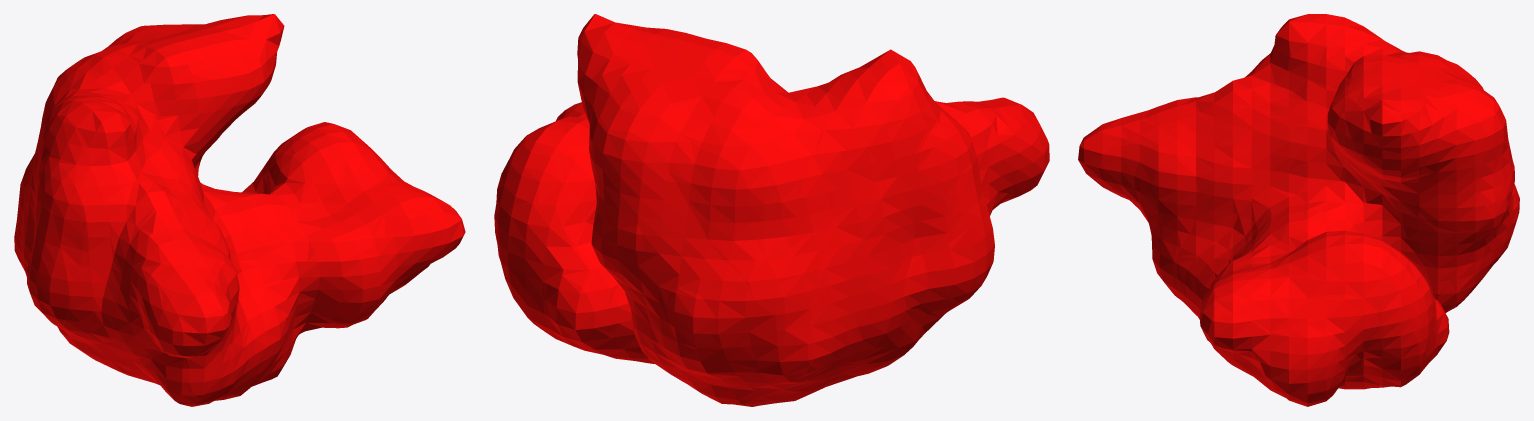
The model's file is udk_coarse.dae.
3 views of the same model, side by side, from view 1: azimuth 30°, elevation 25°; view 2: azimuth 150°, elevation 25°; view 3: azimuth 270°, elevation 25° (orthographic). The views are drawn at different scales.
Visible parts, largest first — view 1: udk; view 2: udk; view 3: udk.
Boxes of the visible parts, x1,y1,x2,y2 form: udk: [14, 14, 465, 406]; udk: [494, 14, 1049, 406]; udk: [1078, 14, 1519, 406].
Size of the model in its own units: 58.73 by 42.48 by 56.48.
